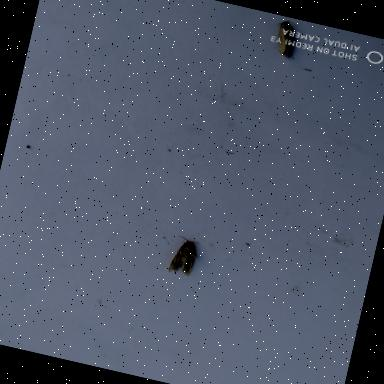pbw: (163, 232, 205, 282), (265, 15, 304, 64)
